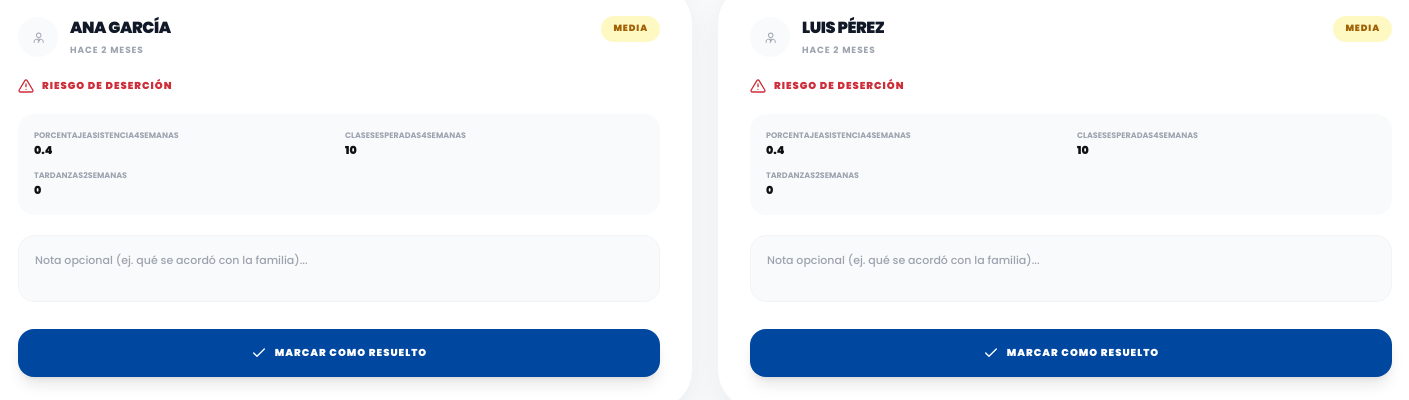
Test: PanelIndicadoresEstudiante › dos estudiantes distintos con el mismo hallazgo.id (mismo tipo y fecha) se resuelven de forma independiente
Expected: the heading "Ana García" is shown, [70,16,171,40]
Type "Nota solo de Ana" into the text box with placeholder "Nota opcional (ej. qué se acordó con la familia)..." below "Ana García" at (339, 268), box [18,234,660,302]
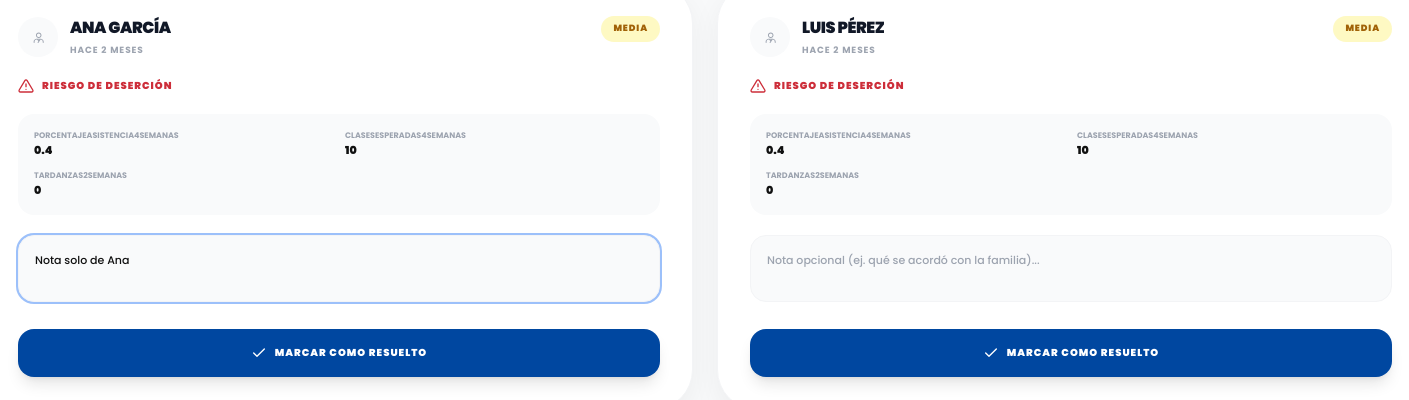
Click the button "Marcar como resuelto" below "Ana García" at (339, 352), box [18,328,660,376]
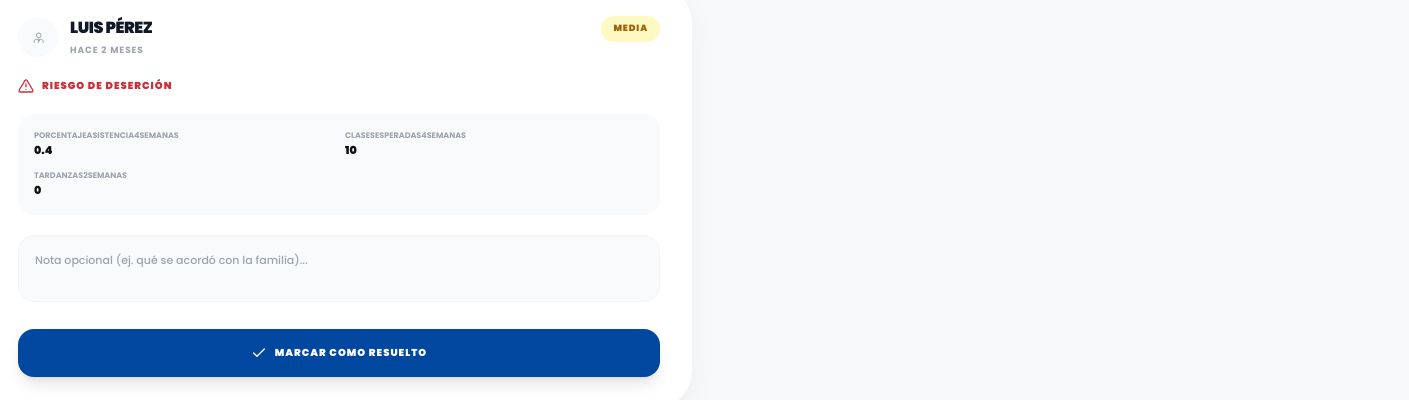
Expected: the heading "Luis Pérez" is shown, [70,16,152,40]
Result: the heading "Ana García" is gone
